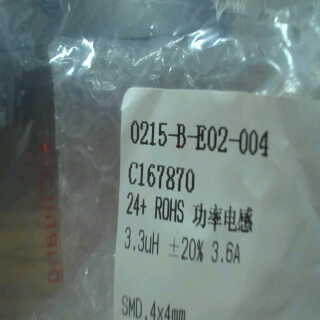3.3uH: (121, 223, 162, 259)
